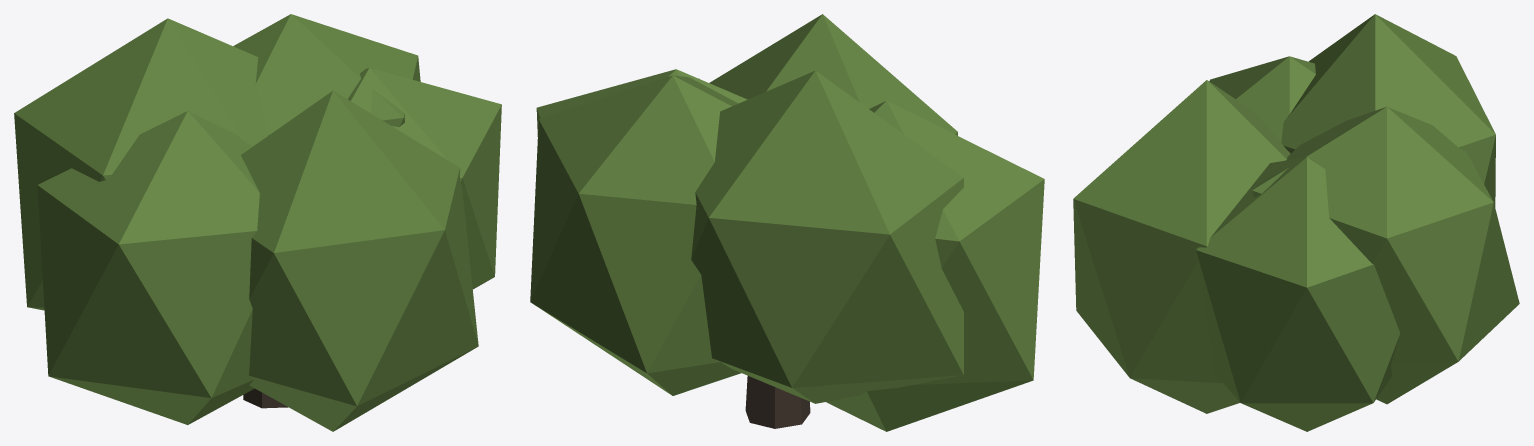
The model's file is bush_b.glb.
3 views of the same model, side by side, from view 1: azimuth 30°, elevation 25°; view 2: azimuth 150°, elevation 25°; view 3: azimuth 270°, elevation 25° (orthographic). The views are drawn at different scales.
Parts seen in each view (by area): view 1: bush_b; view 2: bush_b; view 3: bush_b.
Boxes of the visible parts, x1,y1,x2,y2 form: bush_b: (14, 14, 501, 431); bush_b: (530, 14, 1044, 431); bush_b: (1073, 14, 1519, 431).
Bounding box in the file's own units: 1.35 × 1.03 × 1.15.
